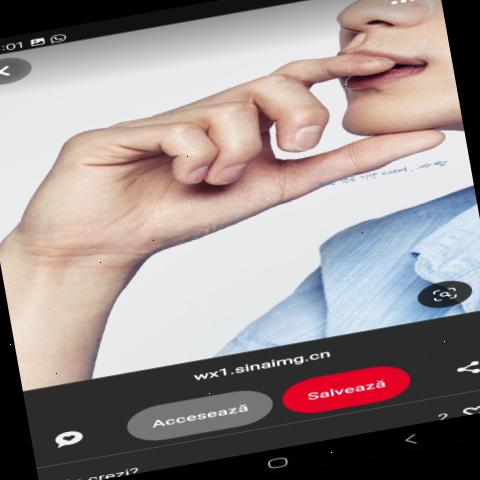hands: (8, 17, 452, 276)
